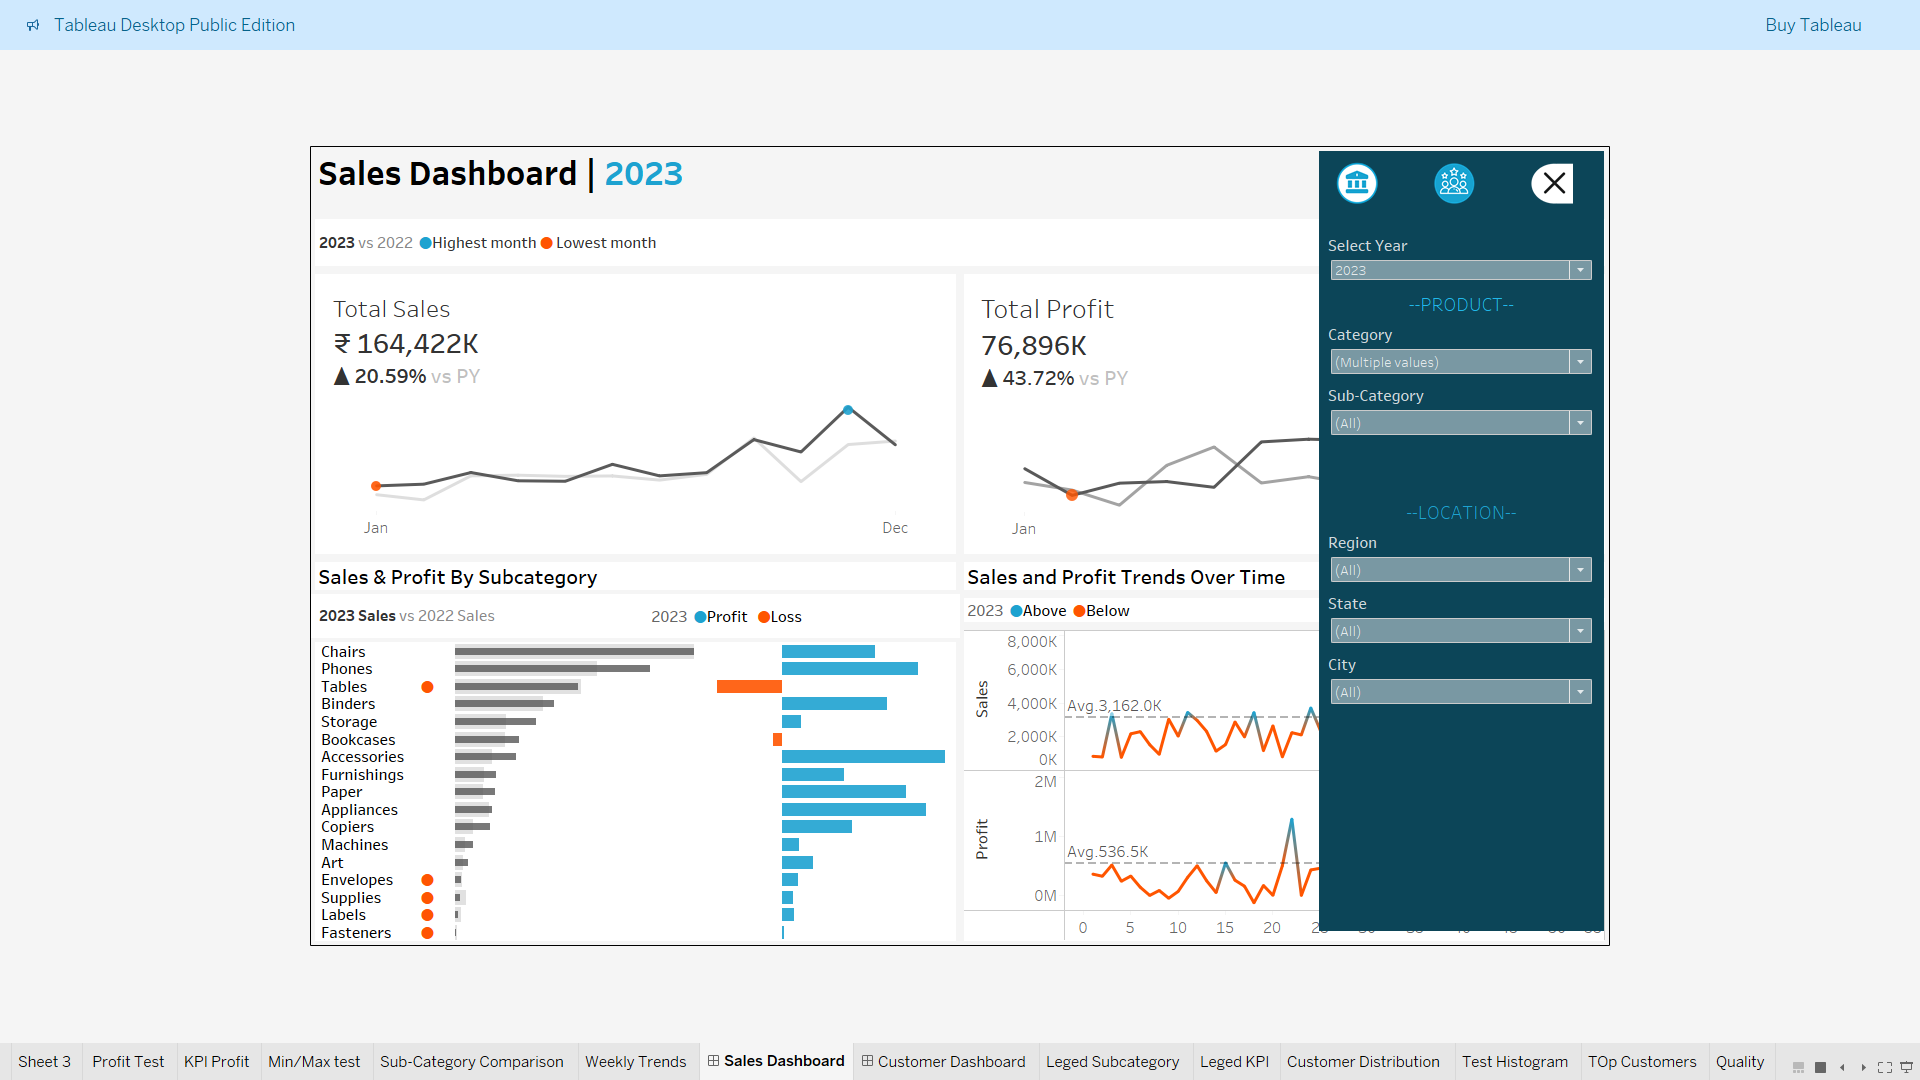

This screenshot's page, from the dashboard's own definition file:
{"tool":"tableau","page":{"name":"Sales Dashboard","canvas":[1300,800],"ordinal":1},"visuals":[{"type":"text","box":[1,1,1298,53]},{"type":"blank","box":[1014,10,275,75]},{"type":"dashboard-object","box":[998,12,98,50]},{"type":"dashboard-object","box":[1096,12,97,50]},{"type":"dashboard-object","box":[1193,12,97,50]},{"type":"worksheet","title":"Leged KPI","mark":"Automatic","box":[1,69,1298,55]},{"type":"parameter","param":"[Parameters].[Parameter 1]","box":[1014,85,275,56]},{"type":"worksheet","title":"KPI Sales","mark":"Automatic","rows":["Calculation_849491506752069635","Calculation_538180182264455172"],"cols":["Order Date"],"box":[1,124,649,288]},{"type":"worksheet","title":"KPI Profit","mark":"Automatic","rows":["Calculation_849491506776858635"],"cols":["Order Date"],"box":[650,124,649,288]},{"type":"text","box":[1014,141,275,33]},{"type":"filter","title":"KPI Sales","param":"[federated.0sznyoi03j0m731ddva8e092tgos].[none:Category:nk]","box":[1014,174,275,61]},{"type":"filter","title":"KPI Sales","param":"[federated.0sznyoi03j0m731ddva8e092tgos].[none:Sub-Category:nk]","box":[1014,235,275,61]},{"type":"blank","box":[1014,296,275,53]},{"type":"text","box":[1014,349,275,33]},{"type":"filter","title":"KPI Sales","param":"[federated.0sznyoi03j0m731ddva8e092tgos].[none:Region:nk]","box":[1014,382,275,61]},{"type":"text","box":[1,412,649,36]},{"type":"text","box":[650,412,649,36]},{"type":"filter","title":"KPI Sales","param":"[federated.0sznyoi03j0m731ddva8e092tgos].[none:State:nk]","box":[1014,443,275,61]},{"type":"worksheet","title":"Leged Subcategory","mark":"Automatic","box":[1,448,333,44]},{"type":"text","box":[334,448,316,44]},{"type":"text","box":[650,448,649,32]},{"type":"worksheet","title":"Weekly Trends","mark":"Automatic","rows":["Calculation_538180182249533440","Calculation_849491506762338309"],"cols":["Order Date"],"box":[650,480,649,319]},{"type":"worksheet","title":"Sub-Category Comparison","mark":"Automatic","rows":["Sub-Category","Calculation_849491506793095182"],"cols":["CY Sales (copy)_538180182250446849","Calculation_538180182249533440","Calculation_849491506762338309"],"box":[1,492,649,307]},{"type":"filter","title":"KPI Sales","param":"[federated.0sznyoi03j0m731ddva8e092tgos].[none:City:nk]","box":[1014,504,275,61]}]}

Visuals, with their boxes on the page's 1300x800 design canvas (x1, y1, x2, y2). These are canvas units, not pixel positions in the 1920x1080 screenshot, which may show the page scaled, cropped or inside an application window:
text: locate(1, 1, 1299, 54)
blank: locate(1014, 10, 1289, 85)
dashboard-object: locate(998, 12, 1096, 62)
dashboard-object: locate(1096, 12, 1193, 62)
dashboard-object: locate(1193, 12, 1290, 62)
"Leged KPI" worksheet: locate(1, 69, 1299, 124)
parameter: locate(1014, 85, 1289, 141)
"KPI Sales" worksheet: locate(1, 124, 650, 412)
"KPI Profit" worksheet: locate(650, 124, 1299, 412)
text: locate(1014, 141, 1289, 174)
"KPI Sales" filter: locate(1014, 174, 1289, 235)
"KPI Sales" filter: locate(1014, 235, 1289, 296)
blank: locate(1014, 296, 1289, 349)
text: locate(1014, 349, 1289, 382)
"KPI Sales" filter: locate(1014, 382, 1289, 443)
text: locate(1, 412, 650, 448)
text: locate(650, 412, 1299, 448)
"KPI Sales" filter: locate(1014, 443, 1289, 504)
"Leged Subcategory" worksheet: locate(1, 448, 334, 492)
text: locate(334, 448, 650, 492)
text: locate(650, 448, 1299, 480)
"Weekly Trends" worksheet: locate(650, 480, 1299, 799)
"Sub-Category Comparison" worksheet: locate(1, 492, 650, 799)
"KPI Sales" filter: locate(1014, 504, 1289, 565)
